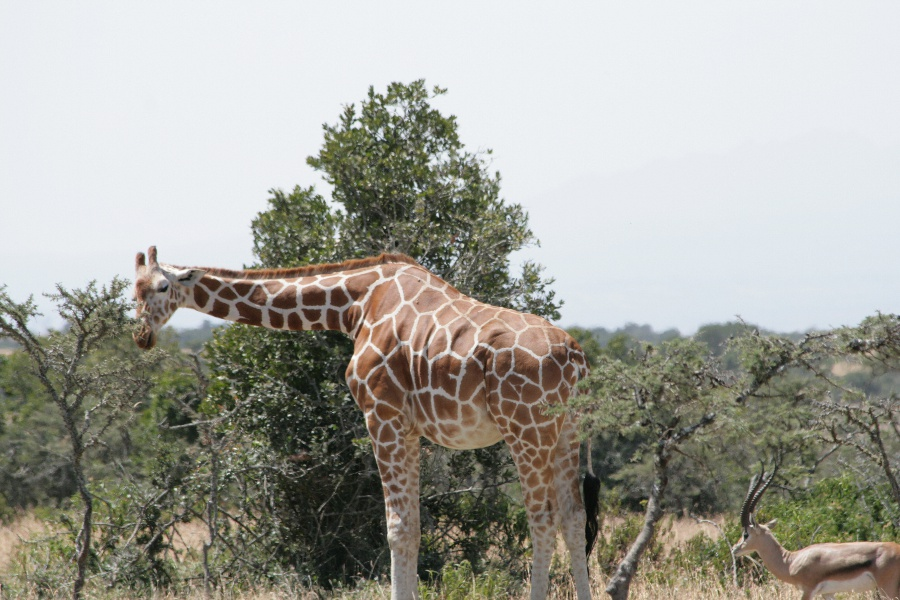giraffe: (119, 236, 612, 598)
